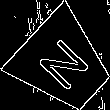N_SE: (32, 32, 96, 96)
